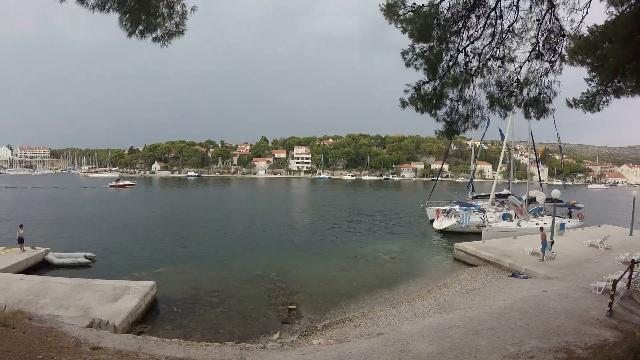speedboat: (106, 176, 138, 190)
